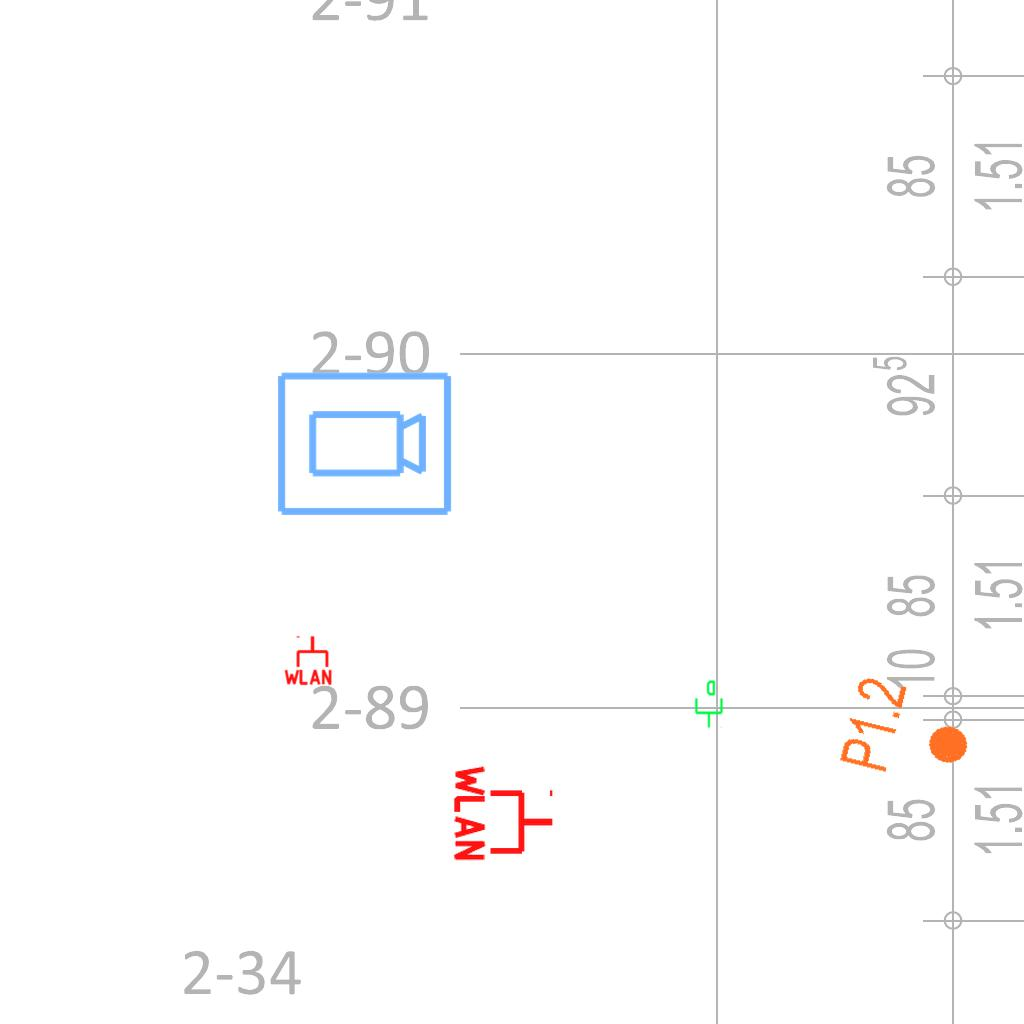Datenanschluss_einfach: (691, 679, 725, 729)
Downlight_LED_Einbauleuchten_Flur: (835, 672, 982, 794)
KFO_Kamera_mit_Festobjektiv: (273, 368, 455, 522)
WLAN: (452, 761, 557, 865), (282, 634, 334, 686)
